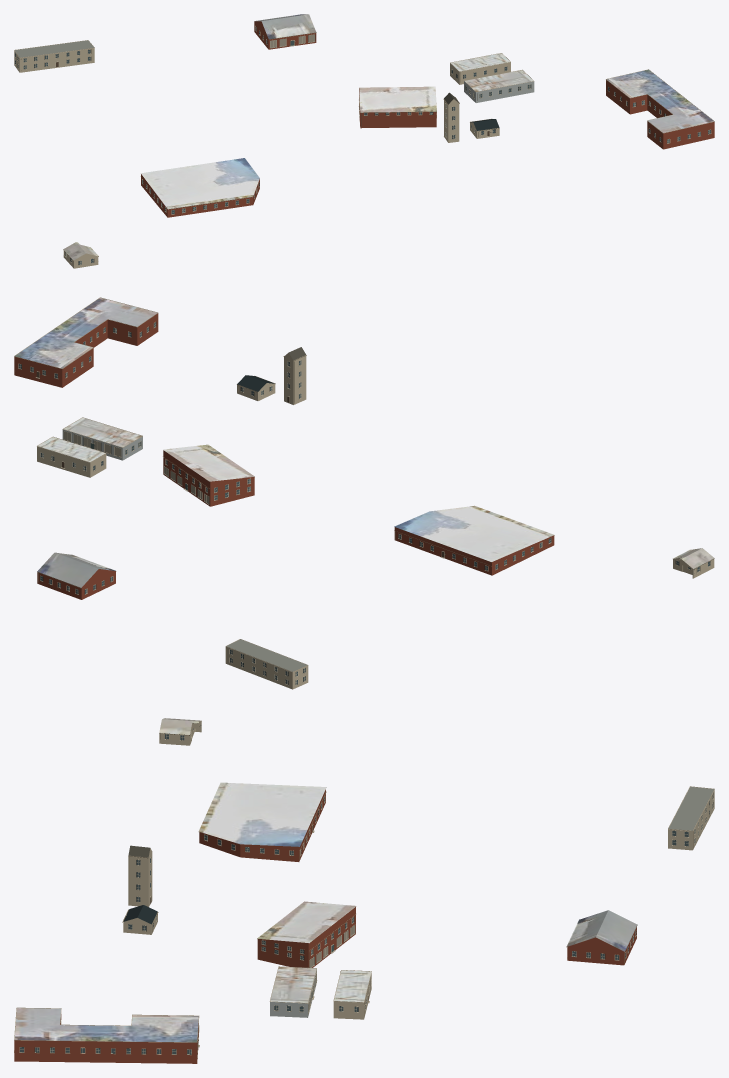
The picture shows the model from 3 angles, top to bottom: view 1: azimuth 30°, elevation 25°; view 2: azimuth 150°, elevation 25°; view 3: azimuth 270°, elevation 25°; orthographic projection. The views are drawn at different scales.
Visible parts, largest first — view 1: 2_1_326848099_0, 2_1_326848164_3, 2_1_632309502_8, 2_1_326848205_4; view 2: 2_1_326848099_0, 2_1_326848164_3, 2_1_632309502_8; view 3: 2_1_326848099_0, 2_1_326848164_3, 2_1_632309502_8, 2_1_326848205_4.
Part boxes in pixels (left/top/right/bottom): 2_1_326848099_0: left=14, top=14, right=714, bottom=265; 2_1_326848164_3: left=14, top=48, right=510, bottom=268; 2_1_632309502_8: left=15, top=40, right=499, bottom=130; 2_1_326848205_4: left=464, top=81, right=534, bottom=102; 2_1_326848099_0: left=14, top=297, right=714, bottom=685; 2_1_326848164_3: left=37, top=352, right=714, bottom=689; 2_1_632309502_8: left=226, top=347, right=307, bottom=671; 2_1_326848099_0: left=14, top=718, right=714, bottom=1063; 2_1_326848164_3: left=123, top=721, right=714, bottom=1019; 2_1_632309502_8: left=123, top=786, right=714, bottom=924; 2_1_326848205_4: left=270, top=969, right=316, bottom=1017.
Size of the model in its own units: 271 by 39.63 by 214.
14 materials, 1 textured.
